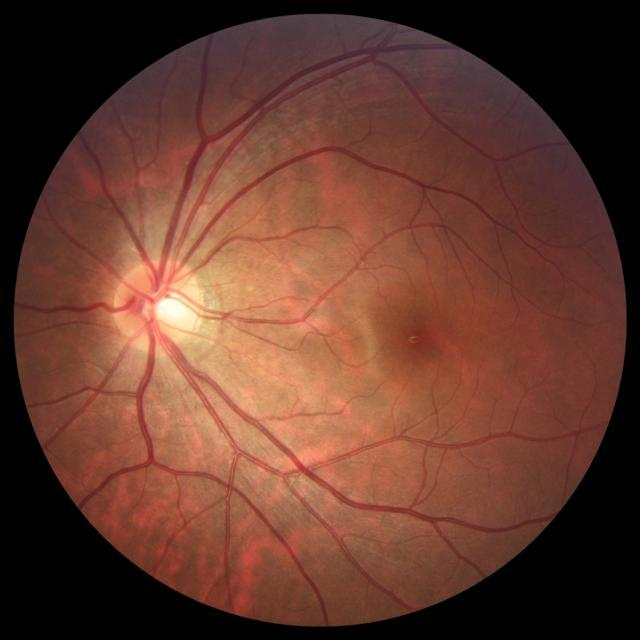OC: (146, 288, 186, 328)
OD: (114, 256, 202, 351)
